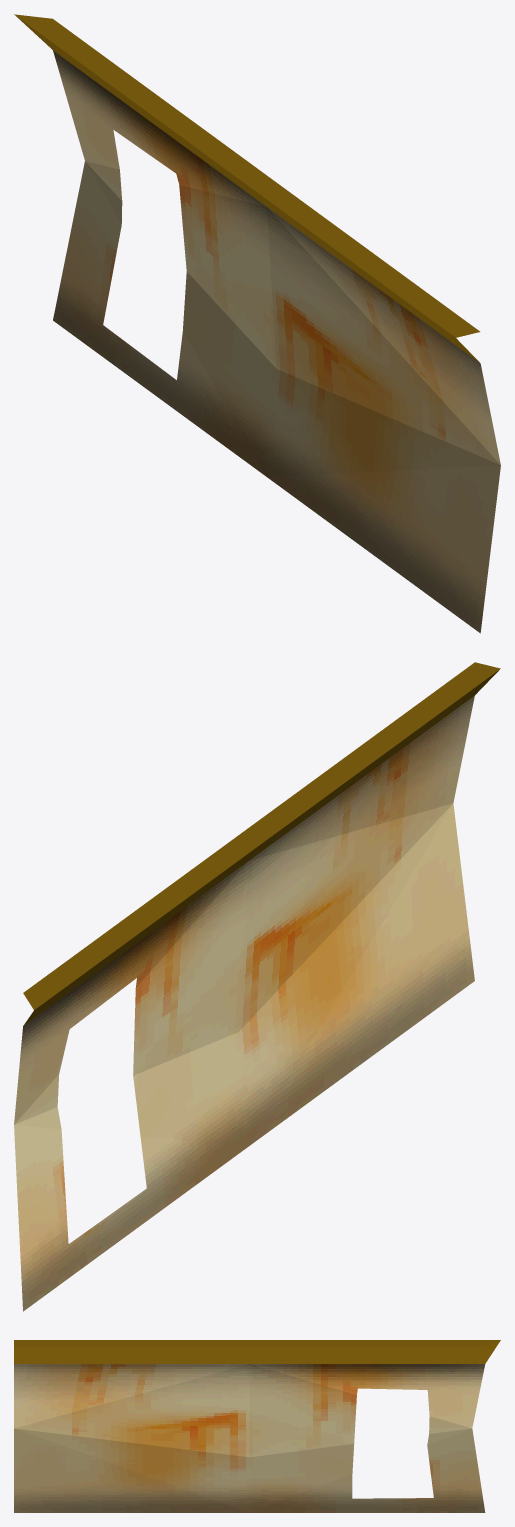
Rendered from W_A2l_oxxx_Gedreht_1244.glb.
3 renders of one model, top to bottom at view 1: azimuth 30°, elevation 25°; view 2: azimuth 150°, elevation 25°; view 3: azimuth 270°, elevation 25°, orthographic. The views are drawn at different scales.
Visible parts, largest first — view 1: polySurfaceShape1265, polySurfaceShape1267; view 2: polySurfaceShape1265, polySurfaceShape1267; view 3: polySurfaceShape1265, polySurfaceShape1267.
Part boxes in pixels (x1,y1,x2,y2): polySurfaceShape1265: [53, 50, 500, 633]; polySurfaceShape1267: [14, 14, 480, 362]; polySurfaceShape1265: [14, 695, 474, 1311]; polySurfaceShape1267: [23, 662, 500, 1025]; polySurfaceShape1265: [14, 1364, 485, 1512]; polySurfaceShape1267: [14, 1340, 500, 1363].
Bounding box in the file's own units: 0.0607 × 0.3891 × 1.03.
Materials: 2 (1 with a texture image).
